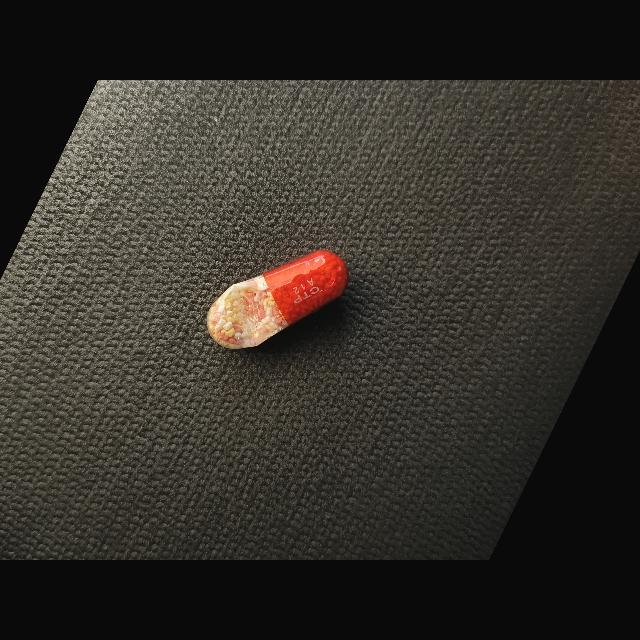Defective Capsule: (207, 250, 349, 349)
